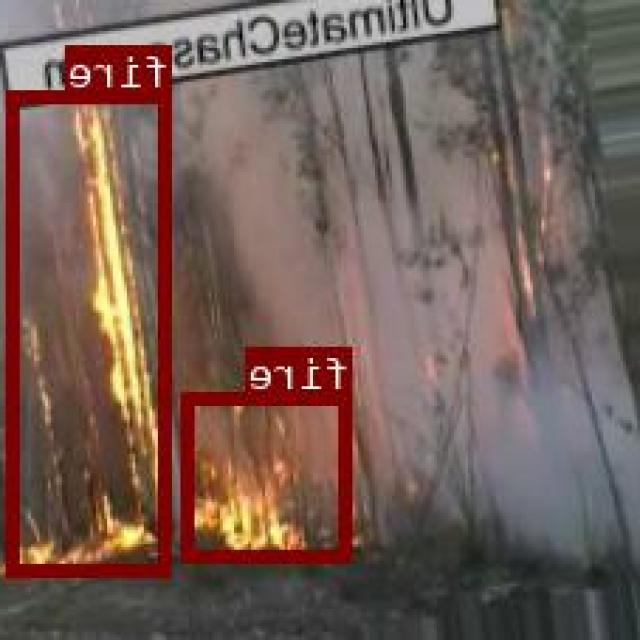fire: (9, 89, 175, 573), (185, 392, 353, 560)
